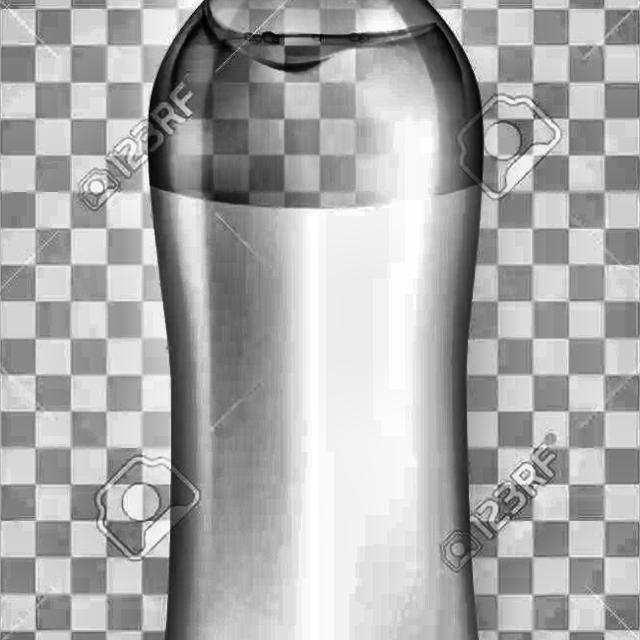bottle: (143, 0, 487, 640)
